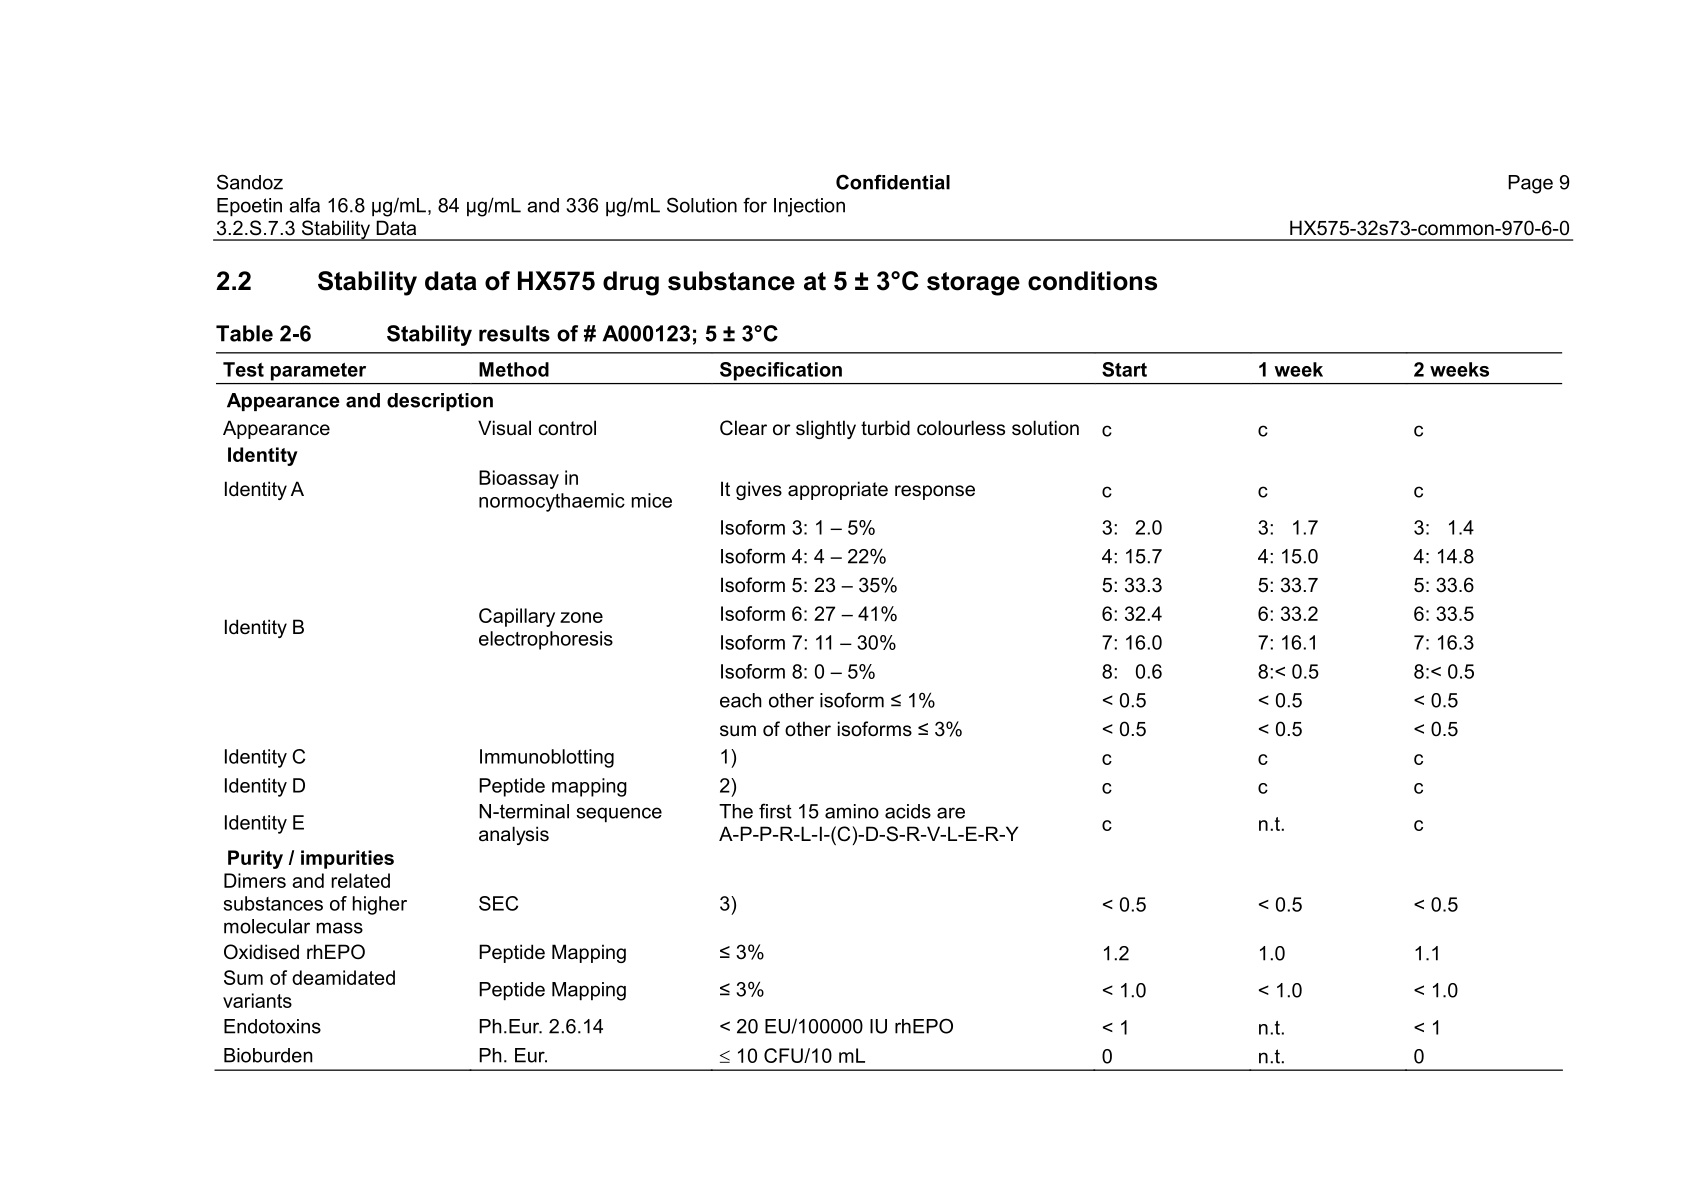partial_lined_merged_cells: (215, 351, 1562, 1072)
